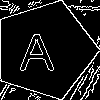A: (19, 25, 55, 70)
